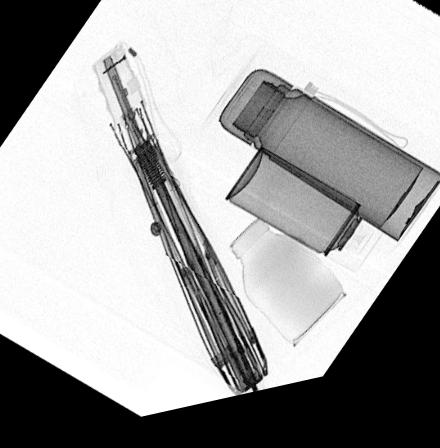Sprayer: (223, 157, 391, 289)
